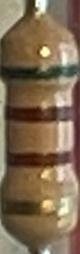Black: (8, 104, 75, 120)
Brown: (7, 150, 75, 165)
Green: (2, 64, 77, 79)
Side-Gold: (4, 199, 76, 213)
